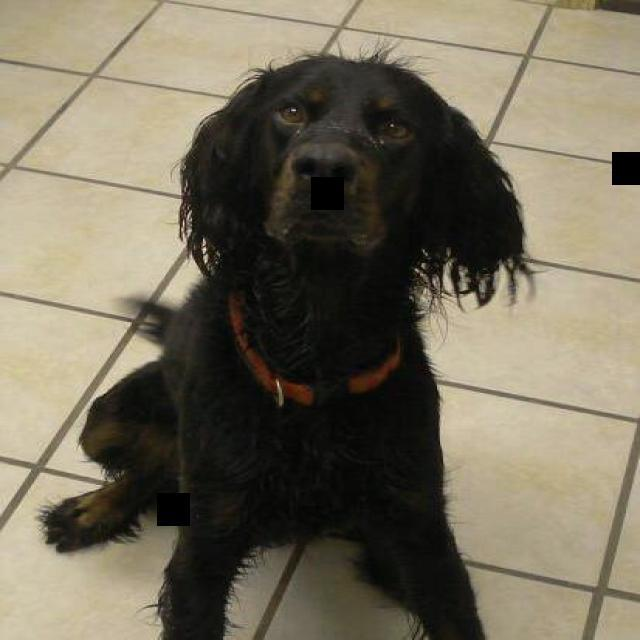adult_dog: (36, 49, 533, 640)
